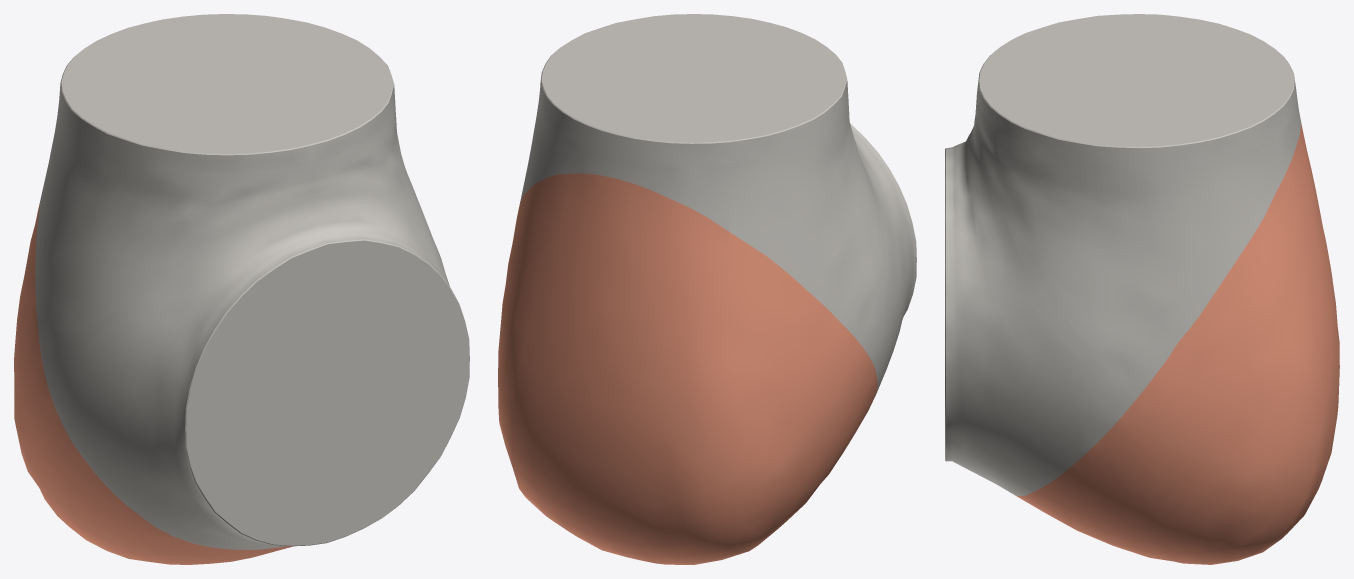
The picture shows the model from 3 angles, left to right: view 1: azimuth 30°, elevation 25°; view 2: azimuth 150°, elevation 25°; view 3: azimuth 270°, elevation 25°; orthographic projection. The views are drawn at different scales.
Visible parts, largest first — view 1: link_6DSF; view 2: link_6DSF; view 3: link_6DSF.
Boxes of the visible parts, x1,y1,x2,y2 form: link_6DSF: [14, 14, 469, 564]; link_6DSF: [498, 14, 916, 564]; link_6DSF: [945, 14, 1339, 564].
Bounding box in the file's own units: 0.1319 × 0.1292 × 0.1668.
